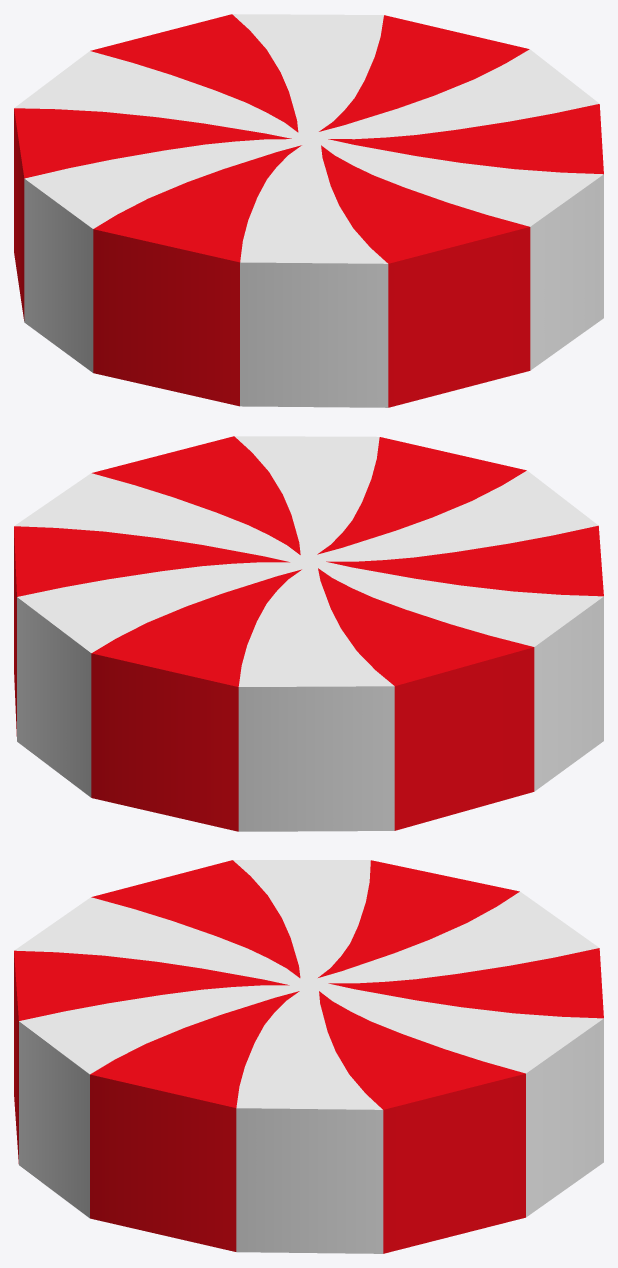
The model's file is Candy_1.fbx.
The picture shows the model from 3 angles, top to bottom: view 1: azimuth 30°, elevation 25°; view 2: azimuth 150°, elevation 25°; view 3: azimuth 270°, elevation 25°; orthographic projection.
Parts seen in each view (by area): view 1: Candy_1; view 2: Candy_1; view 3: Candy_1.
Boxes of the visible parts, x1,y1,x2,y2 form: Candy_1: [14, 14, 603, 407]; Candy_1: [14, 436, 603, 831]; Candy_1: [14, 860, 603, 1253].
Size of the model in its own units: 407 by 109 by 406.
